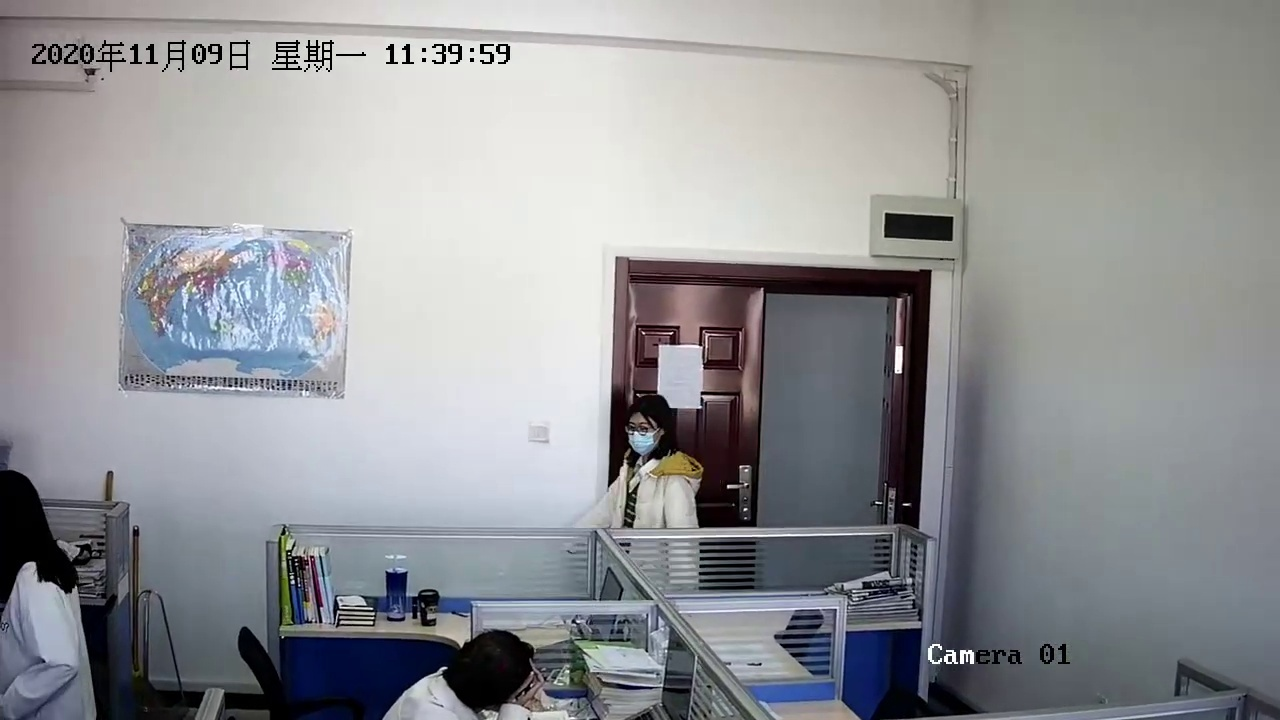mask: (624, 411, 669, 467)
